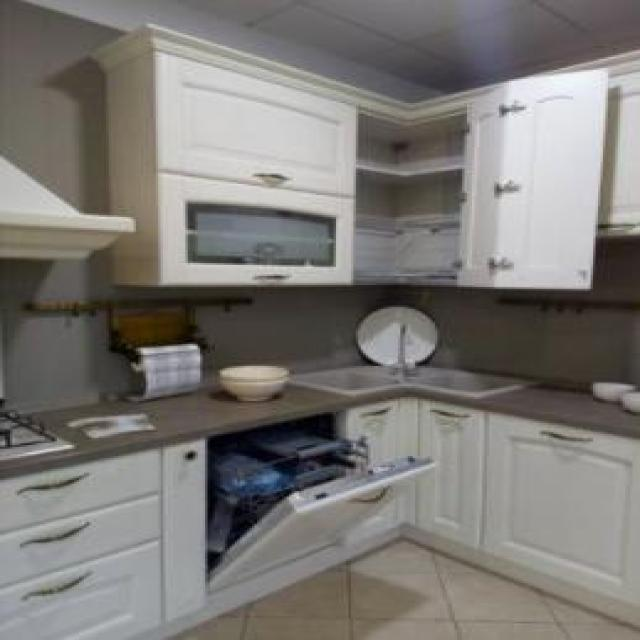dishwasher: (190, 404, 448, 607)
